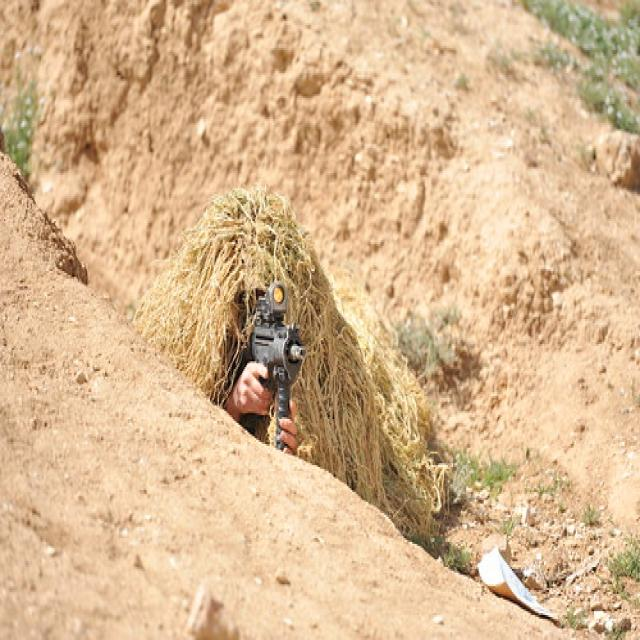Camouflage: (131, 185, 445, 547)
